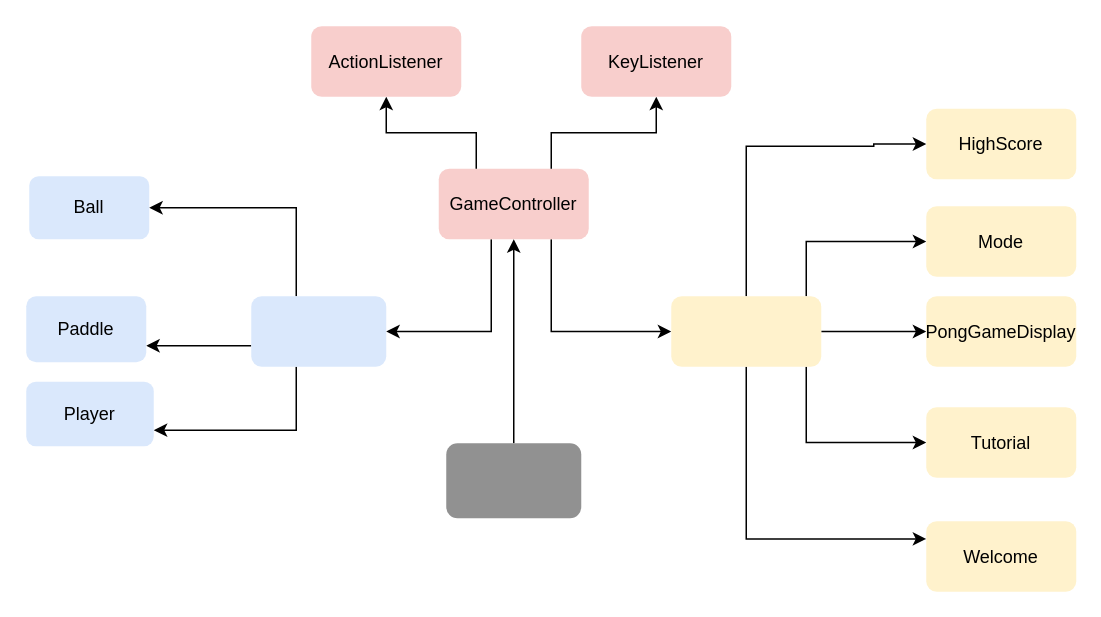
This 1101x617 diagram has some shape labels left out. Each missing label, with the box of its shape:
GameModel: (250, 296, 386, 366)
GameView: (670, 296, 820, 366)
PongGame: (446, 442, 580, 518)
